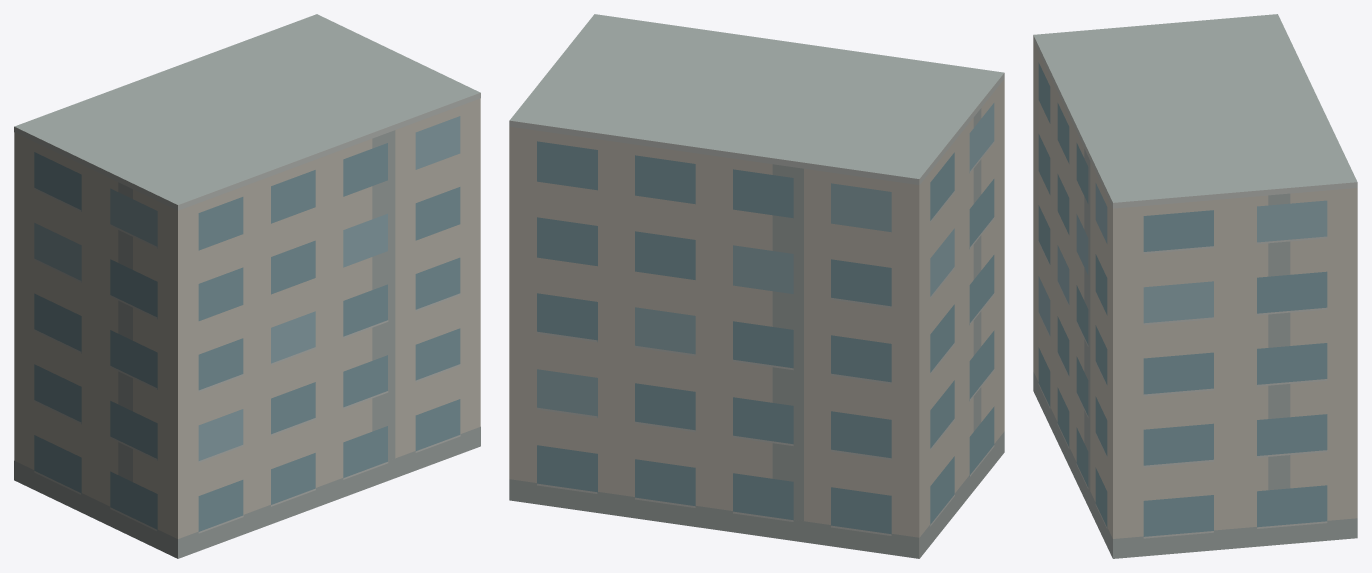
Rendered from residential-9f0ea33c-dcd0-4717-b8a4-ceac3c86ff87.glb.
3 views of the same model, side by side, from view 1: azimuth 30°, elevation 25°; view 2: azimuth 150°, elevation 25°; view 3: azimuth 270°, elevation 25° (orthographic). The views are drawn at different scales.
Visible parts, largest first — view 1: residential-9f0ea33c-dcd0-4717-b8a4-ceac3c86ff87.tmp; view 2: residential-9f0ea33c-dcd0-4717-b8a4-ceac3c86ff87.tmp; view 3: residential-9f0ea33c-dcd0-4717-b8a4-ceac3c86ff87.tmp.
Boxes of the visible parts, box(x1,y1,x2,y2) form: residential-9f0ea33c-dcd0-4717-b8a4-ceac3c86ff87.tmp: box(14, 14, 480, 558); residential-9f0ea33c-dcd0-4717-b8a4-ceac3c86ff87.tmp: box(509, 14, 1004, 558); residential-9f0ea33c-dcd0-4717-b8a4-ceac3c86ff87.tmp: box(1033, 14, 1357, 558).
Size of the model in its own units: 17.36 by 15.25 by 12.6.
